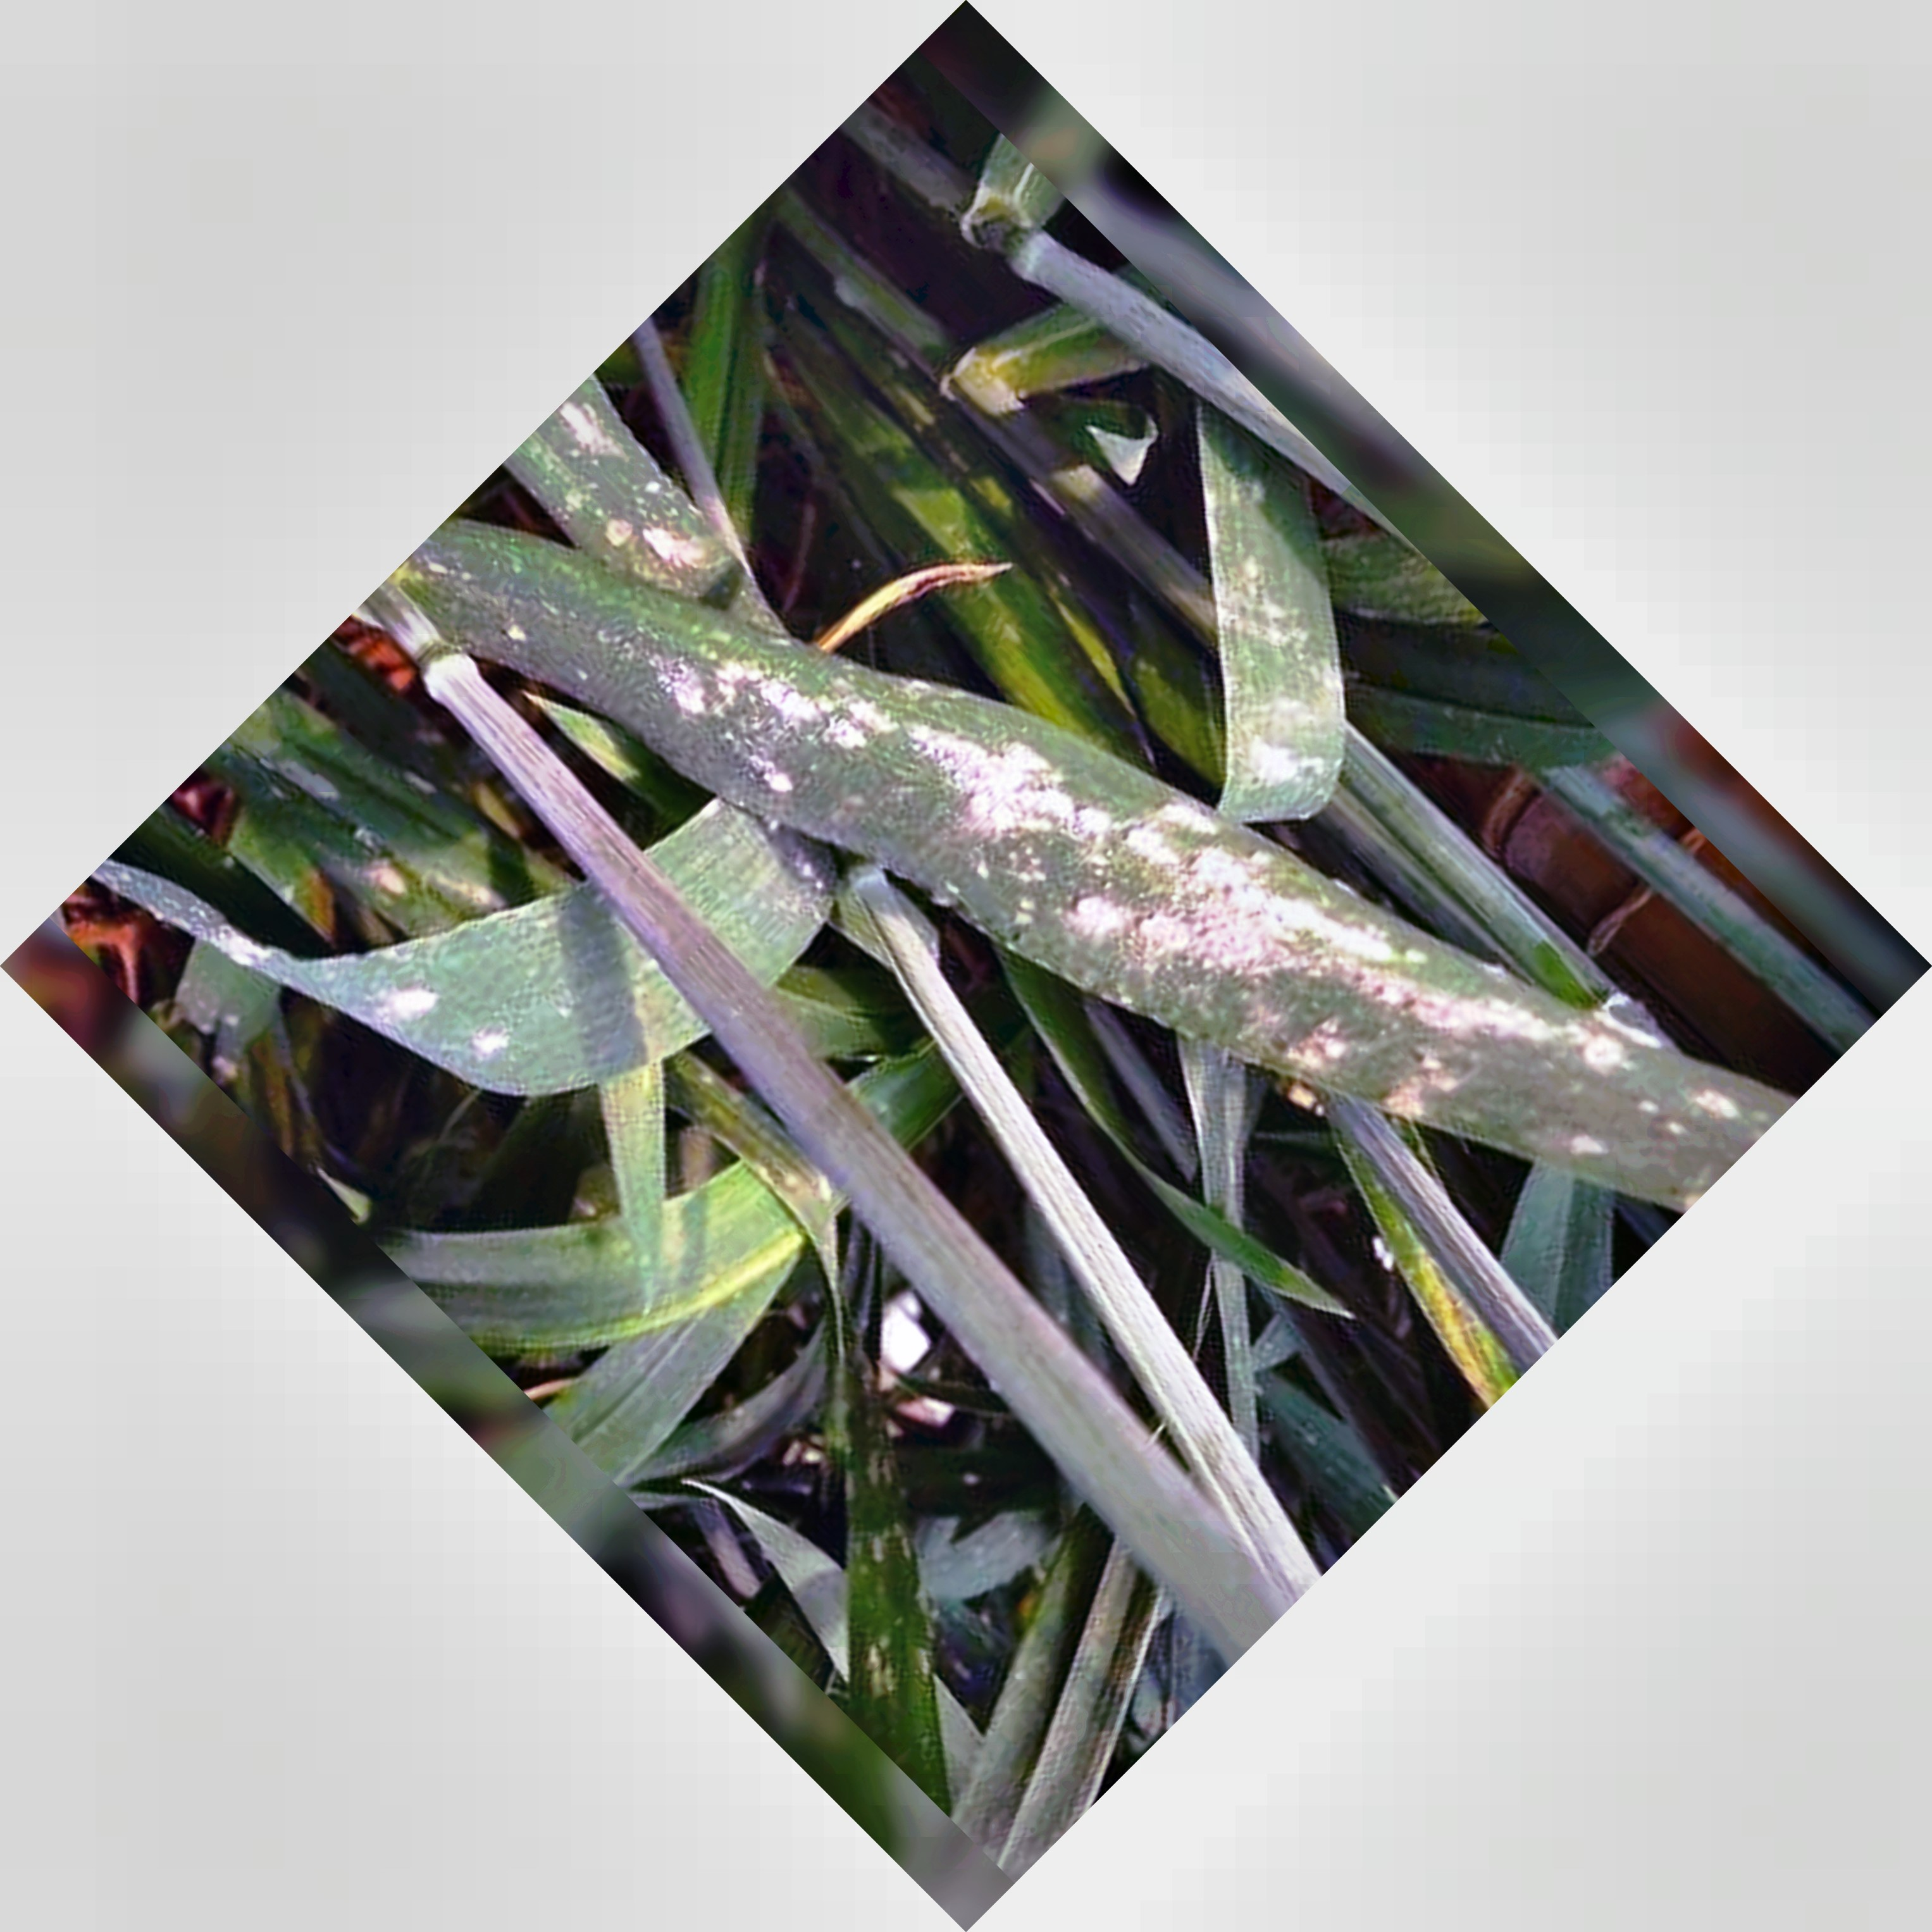Powdery Mildew: (639, 621, 1582, 1152)
